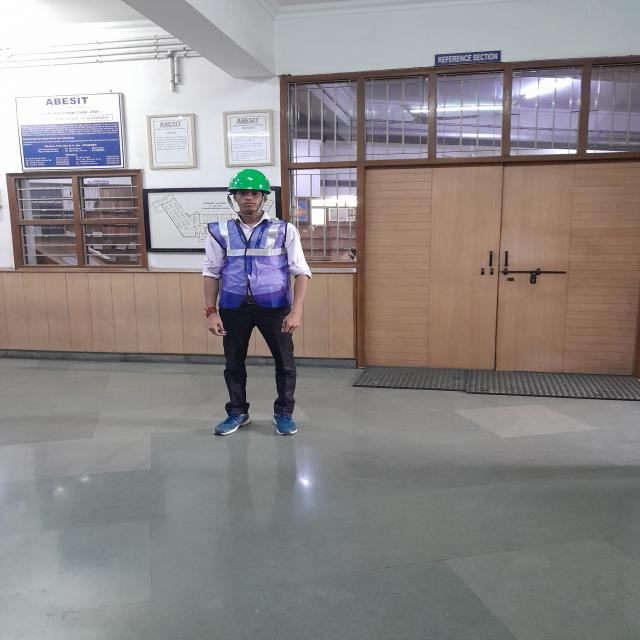safe: (204, 170, 310, 434)
